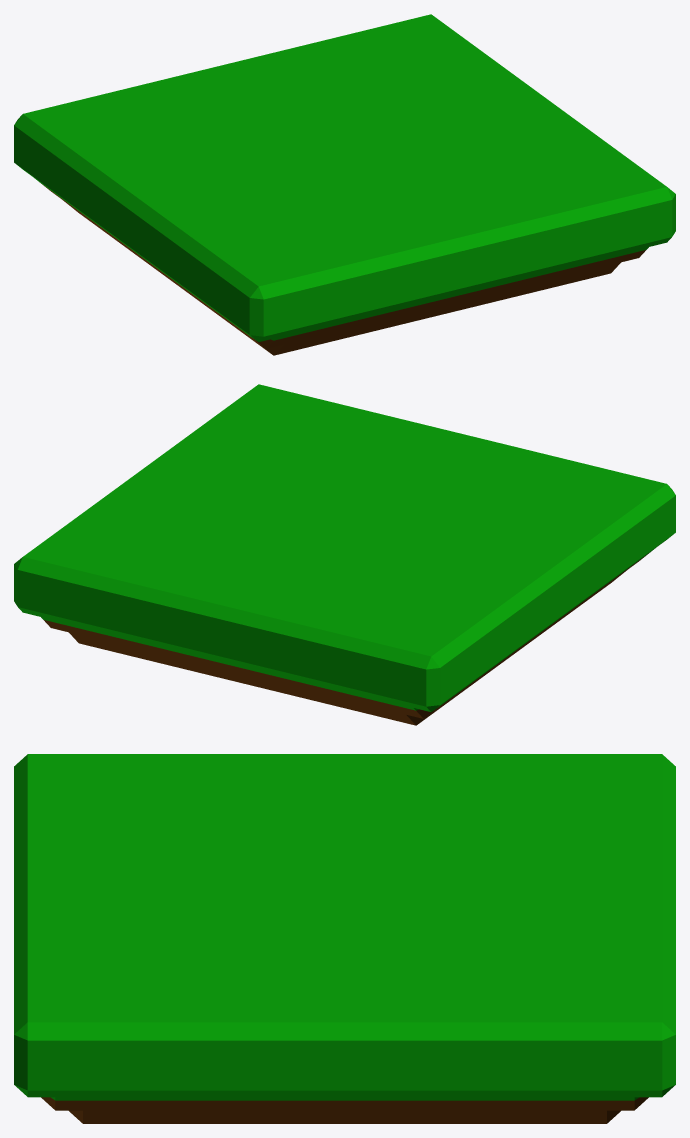
Rendered from board_tile_small_mc.fbx.
The picture shows the model from 3 angles, top to bottom: view 1: azimuth 30°, elevation 25°; view 2: azimuth 150°, elevation 25°; view 3: azimuth 270°, elevation 25°; orthographic projection. The views are drawn at different scales.
Parts seen in each view (by area): view 1: board_tile_vox; view 2: board_tile_vox; view 3: board_tile_vox.
Boxes of the visible parts, bbox=[...] form: board_tile_vox: bbox=[14, 14, 675, 355]; board_tile_vox: bbox=[14, 384, 675, 725]; board_tile_vox: bbox=[14, 754, 675, 1123].
Bounding box in the file's own units: 2.4 × 0.5 × 2.4.
